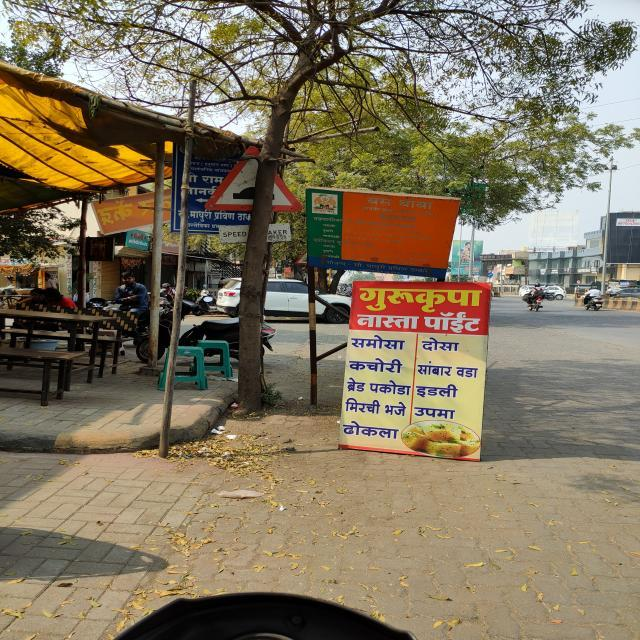hump or rough road: (204, 143, 302, 215)
